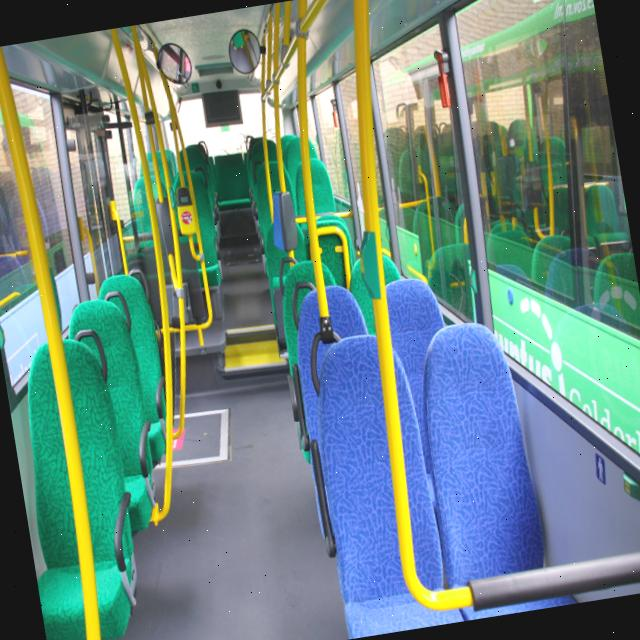empty-seat-frontal: (408, 302, 594, 622), (290, 317, 473, 640), (0, 324, 147, 640)
